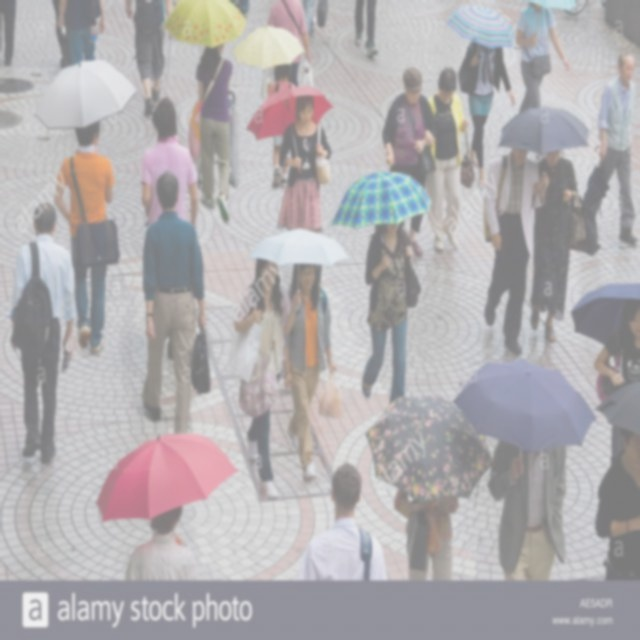pessoa: (6, 200, 78, 467), (140, 170, 208, 437), (225, 243, 293, 502), (528, 146, 602, 342), (54, 119, 114, 356), (484, 146, 551, 358), (576, 48, 638, 246), (486, 438, 568, 582), (284, 264, 338, 482), (295, 462, 388, 580), (381, 65, 437, 258), (361, 219, 415, 408), (424, 64, 472, 252), (140, 95, 199, 228), (464, 39, 516, 189), (593, 298, 640, 463), (278, 92, 331, 235), (193, 42, 234, 224), (594, 426, 640, 582), (392, 486, 460, 581), (514, 0, 570, 114), (124, 0, 176, 116), (124, 503, 199, 581), (266, 0, 314, 88), (267, 64, 297, 188), (56, 0, 106, 69), (349, 0, 386, 58), (54, 1, 71, 68), (1, 0, 18, 66), (302, 0, 329, 40), (230, 0, 250, 16)
